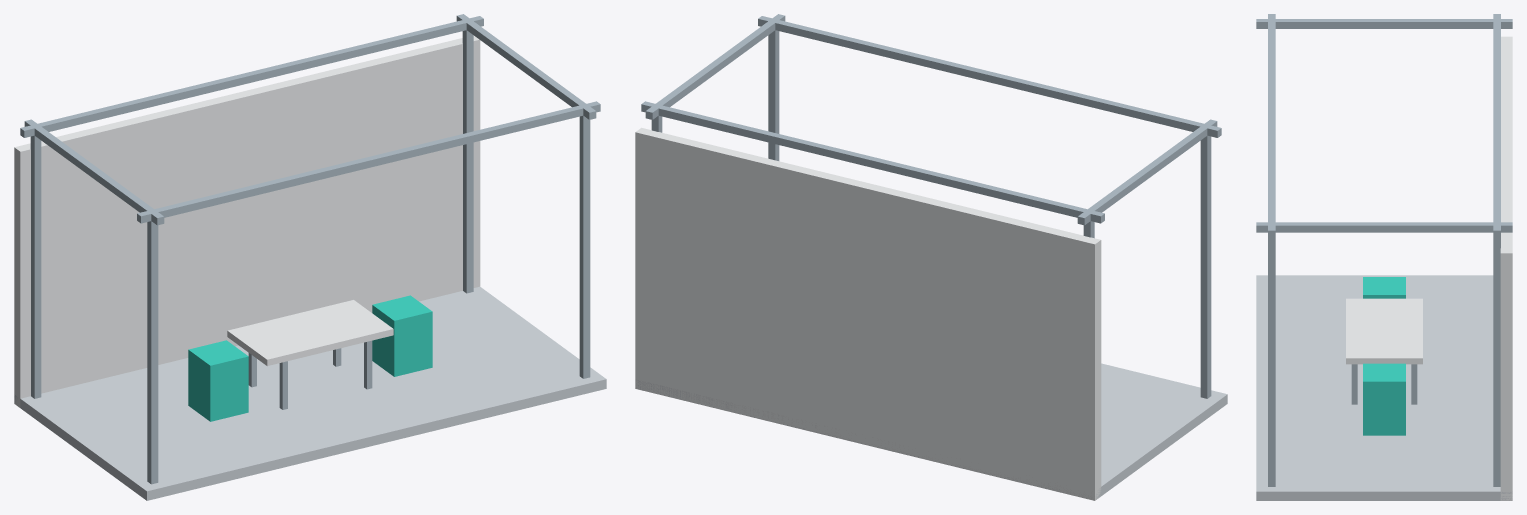
3 renders of one model, left to right at view 1: azimuth 30°, elevation 25°; view 2: azimuth 150°, elevation 25°; view 3: azimuth 270°, elevation 25°, orthographic. The views are drawn at different scales.
Visible parts, largest first — view 1: Exhibition Booth Concept; view 2: Exhibition Booth Concept; view 3: Exhibition Booth Concept.
Boxes of the visible parts, x1,y1,x2,y2 form: Exhibition Booth Concept: (14, 14, 606, 500); Exhibition Booth Concept: (635, 14, 1227, 500); Exhibition Booth Concept: (1256, 14, 1512, 500).
Size of the model in its own units: 6 by 3.49 by 3.
